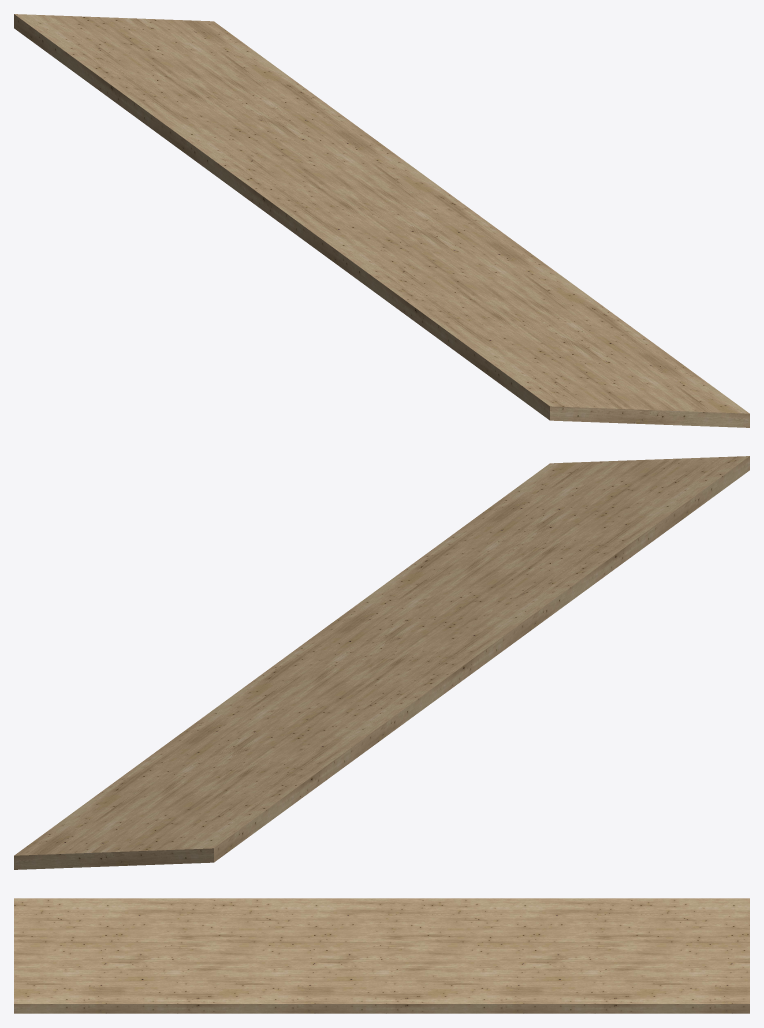
Rendered from Joglo_part_339.fbx.
3 views of the same model, one above another, from view 1: azimuth 30°, elevation 25°; view 2: azimuth 150°, elevation 25°; view 3: azimuth 270°, elevation 25° (orthographic). The views are drawn at different scales.
Visible parts, largest first — view 1: Mesh397_Wood___Pine_Grained_Horizontal_0.001; view 2: Mesh397_Wood___Pine_Grained_Horizontal_0.001; view 3: Mesh397_Wood___Pine_Grained_Horizontal_0.001.
Part boxes in pixels (bbox=[...]): Mesh397_Wood___Pine_Grained_Horizontal_0.001: bbox=[14, 14, 749, 427]; Mesh397_Wood___Pine_Grained_Horizontal_0.001: bbox=[14, 456, 749, 869]; Mesh397_Wood___Pine_Grained_Horizontal_0.001: bbox=[14, 898, 749, 1013].
Size of the model in its own units: 89.68 by 30.14 by 416.
